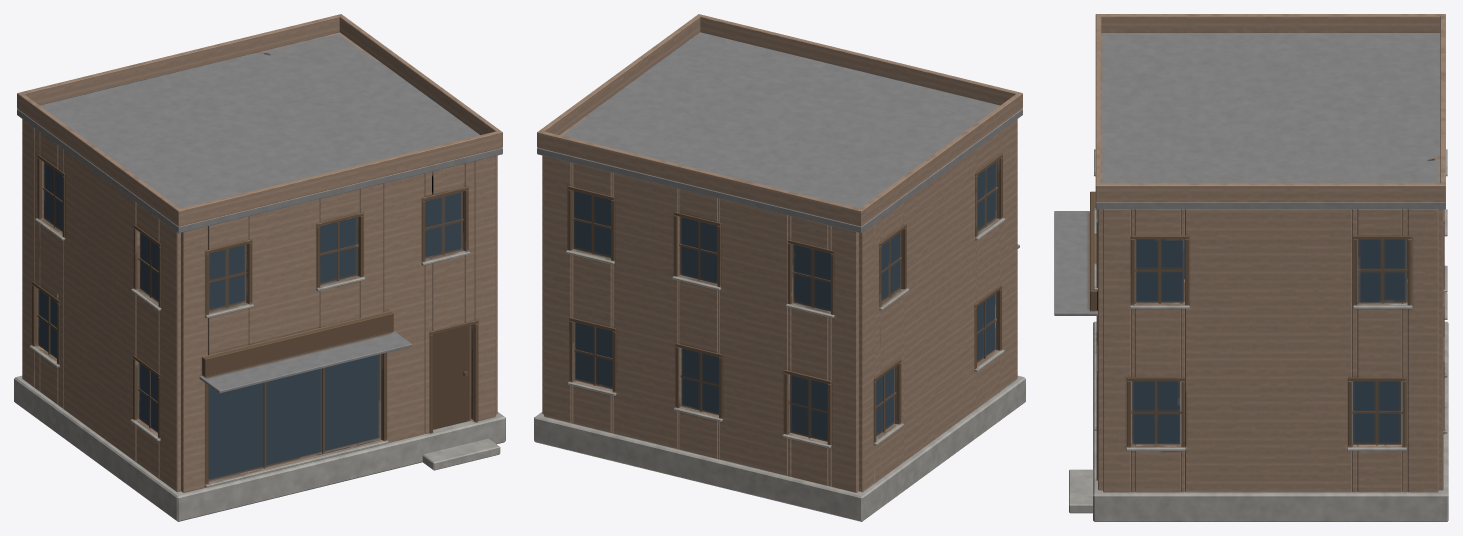
The model's file is shop_wood.glb.
The picture shows the model from 3 angles, left to right: view 1: azimuth 30°, elevation 25°; view 2: azimuth 150°, elevation 25°; view 3: azimuth 270°, elevation 25°; orthographic projection. The views are drawn at different scales.
Parts seen in each view (by area): view 1: shop_wood; view 2: shop_wood; view 3: shop_wood.
Part boxes in pixels (x1,y1,x2,y2): shop_wood: [14, 14, 505, 521]; shop_wood: [534, 14, 1025, 521]; shop_wood: [1054, 14, 1448, 521].
Size of the model in its own units: 7.36 by 6.63 by 7.05.
1 material, 1 textured.
